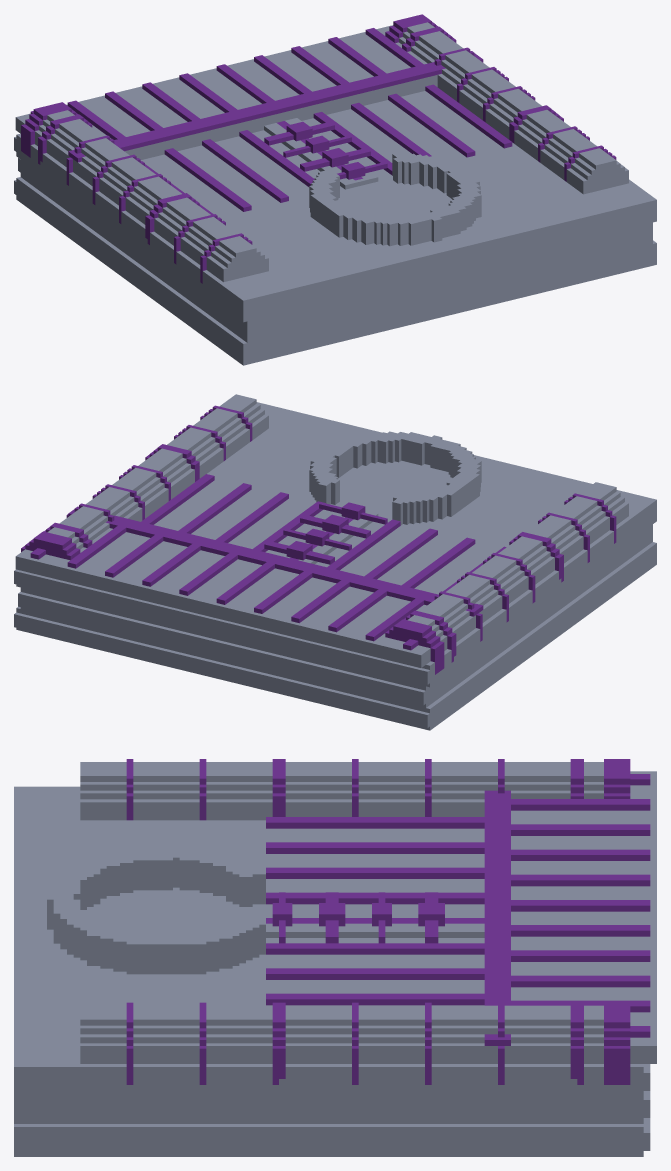
The model's file is gambeson_parabolan.glb.
3 views of the same model, one above another, from view 1: azimuth 30°, elevation 25°; view 2: azimuth 150°, elevation 25°; view 3: azimuth 270°, elevation 25° (orthographic). The views are drawn at different scales.
Visible parts, largest first — view 1: gambeson_parabolan:compound; view 2: gambeson_parabolan:compound; view 3: gambeson_parabolan:compound.
Boxes of the visible parts, left/top/right/bottom form: gambeson_parabolan:compound: left=14, top=14, right=656, bottom=365; gambeson_parabolan:compound: left=14, top=394, right=656, bottom=730; gambeson_parabolan:compound: left=14, top=759, right=656, bottom=1156.
Size of the model in its own units: 0.4 by 0.084 by 0.388.
